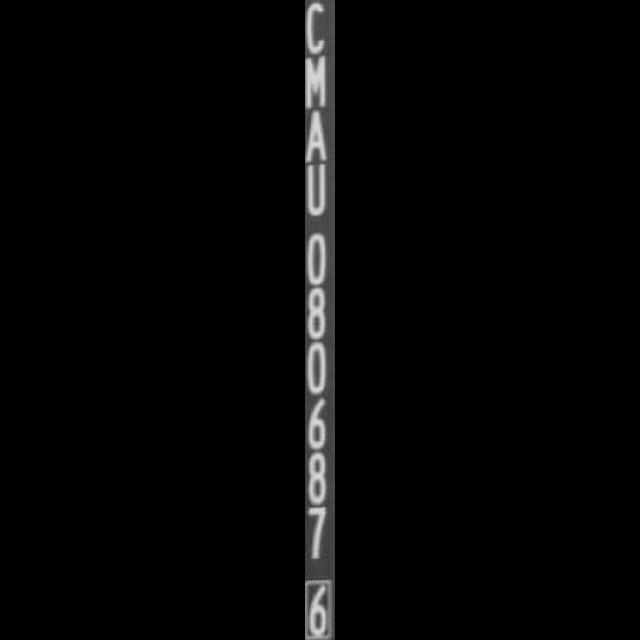0: (305, 340, 335, 396)
6: (305, 578, 335, 640), (305, 393, 335, 453)
7: (305, 502, 335, 564)
8: (305, 284, 335, 342), (305, 450, 335, 504)
a: (305, 108, 335, 164)
c: (305, 0, 335, 52)
m: (305, 54, 335, 112)
o: (305, 226, 335, 284)
u: (305, 160, 335, 218)
